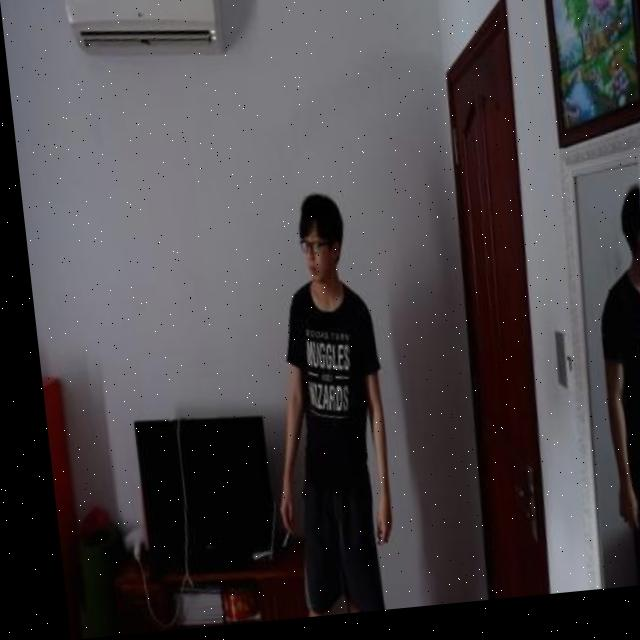cigarette: (269, 536, 277, 552)
